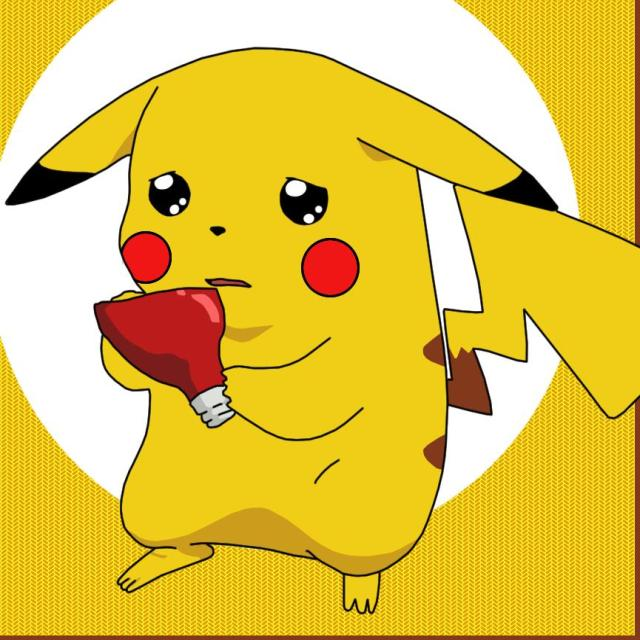pikachu: (7, 46, 640, 615)
